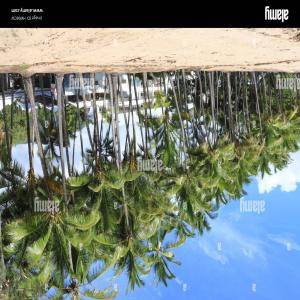palm tree: (1, 68, 299, 299)
